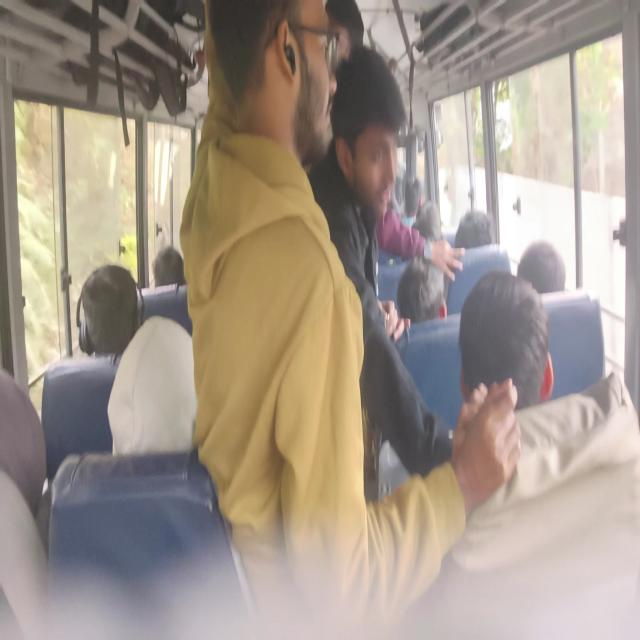person: (210, 0, 330, 441), (102, 334, 201, 458), (468, 282, 556, 415), (337, 66, 399, 247), (78, 275, 132, 363), (387, 264, 451, 337), (519, 241, 582, 304), (457, 210, 505, 284), (320, 0, 366, 77), (0, 400, 50, 461), (150, 239, 186, 306), (421, 204, 450, 254), (407, 175, 433, 217)
